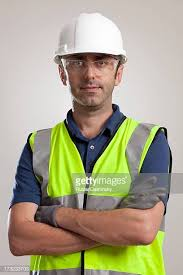Person_wearing_helmet: (44, 5, 133, 75)
